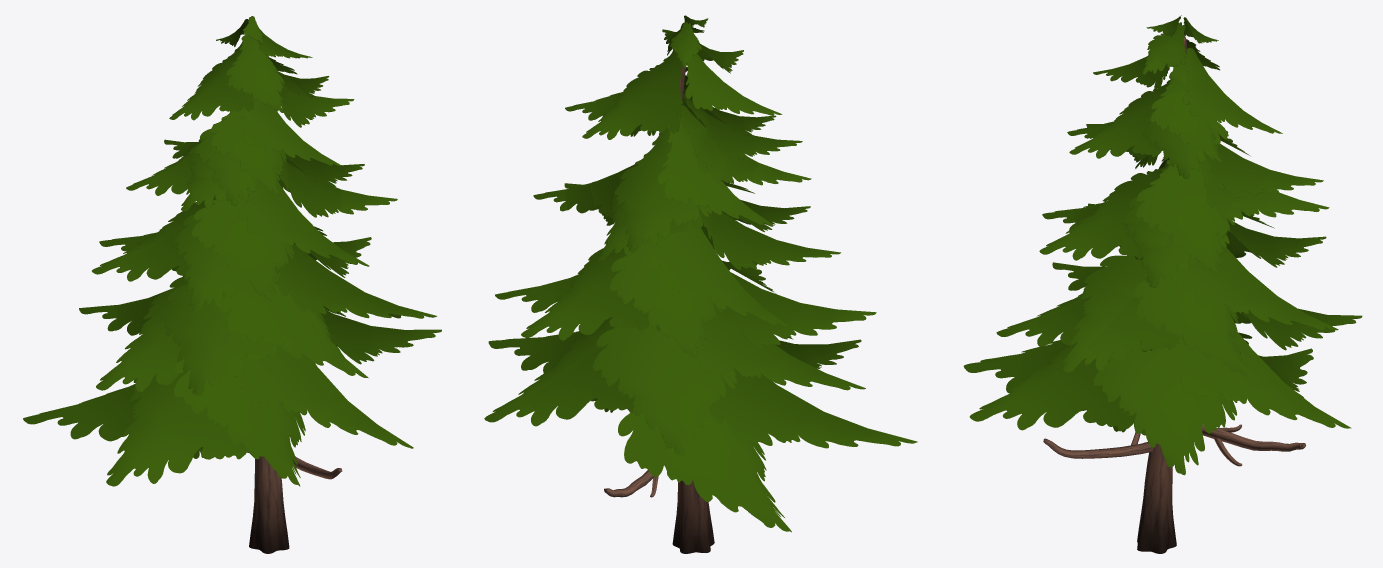
Rendered from Pine_2.gltf.
The picture shows the model from 3 angles, left to right: view 1: azimuth 30°, elevation 25°; view 2: azimuth 150°, elevation 25°; view 3: azimuth 270°, elevation 25°; orthographic projection. The views are drawn at different scales.
Visible parts, largest first — view 1: Pine_2; view 2: Pine_2; view 3: Pine_2.
Boxes of the visible parts, x1=… form: Pine_2: x1=23, y1=16, x2=441, y2=553; Pine_2: x1=484, y1=15, x2=917, y2=553; Pine_2: x1=963, y1=15, x2=1362, y2=553.
Size of the model in its own units: 5.73 by 7.38 by 5.22.
Materials: 2 (2 with a texture image).
